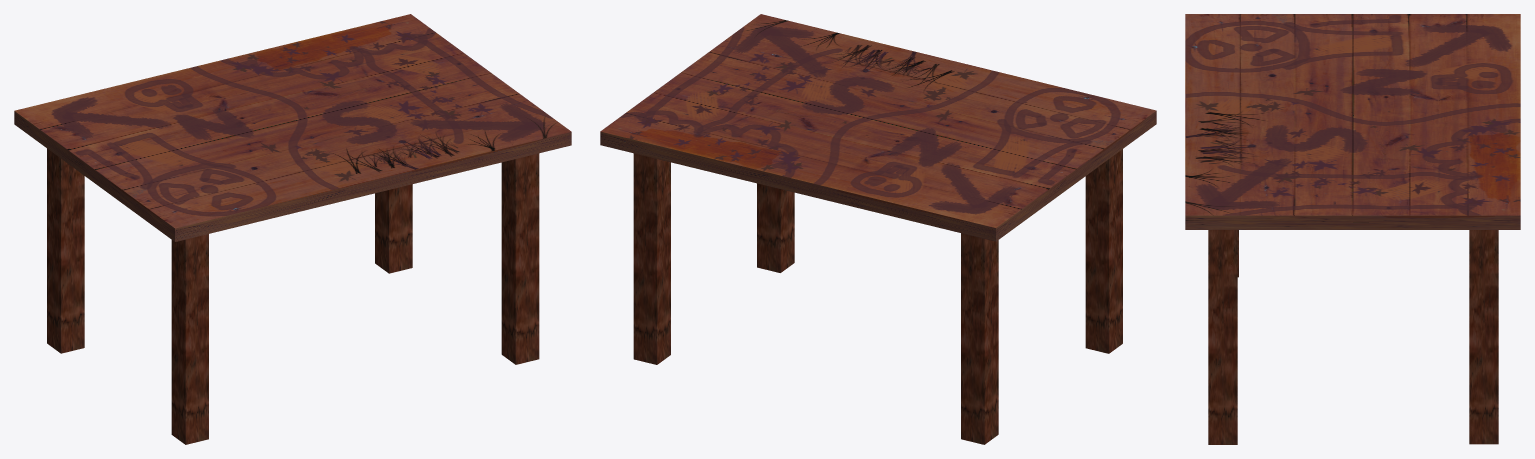
File: Table.FBX
3 renders of one model, left to right at view 1: azimuth 30°, elevation 25°; view 2: azimuth 150°, elevation 25°; view 3: azimuth 270°, elevation 25°, orthographic. The views are drawn at different scales.
Visible parts, largest first — view 1: MapTop, Object001, Box005, Object004, Object003, Object002; view 2: MapTop, Box005, Object002, Object003, Object004, Object001; view 3: MapTop, Object001, Object002, Box005.
Part boxes in pixels (x1,y1,x2,y2): MapTop: [14, 14, 571, 228]; Object001: [501, 153, 539, 364]; Box005: [14, 111, 571, 241]; Object004: [171, 234, 208, 444]; Object003: [47, 148, 84, 353]; Object002: [375, 184, 412, 273]; MapTop: [600, 14, 1156, 227]; Box005: [600, 111, 1156, 241]; Object002: [633, 153, 670, 364]; Object003: [961, 233, 998, 444]; Object004: [1085, 149, 1122, 353]; Object001: [757, 183, 794, 272]; MapTop: [1185, 14, 1520, 215]; Object001: [1208, 230, 1237, 444]; Object002: [1469, 230, 1498, 444]; Box005: [1185, 215, 1520, 229].
Size of the model in its own units: 765 by 425 by 538.
Materials: 3 (3 with a texture image).
